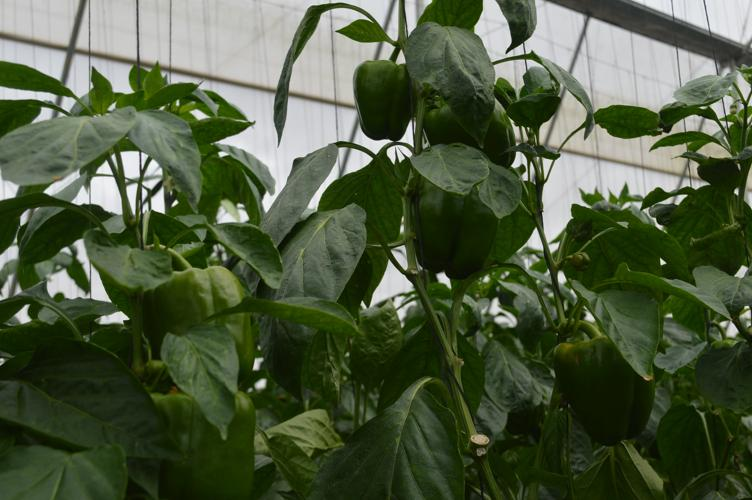BellPepper: (547, 330, 655, 449), (400, 152, 498, 282), (136, 268, 260, 370), (145, 391, 259, 499), (423, 80, 518, 165), (349, 58, 415, 143)
